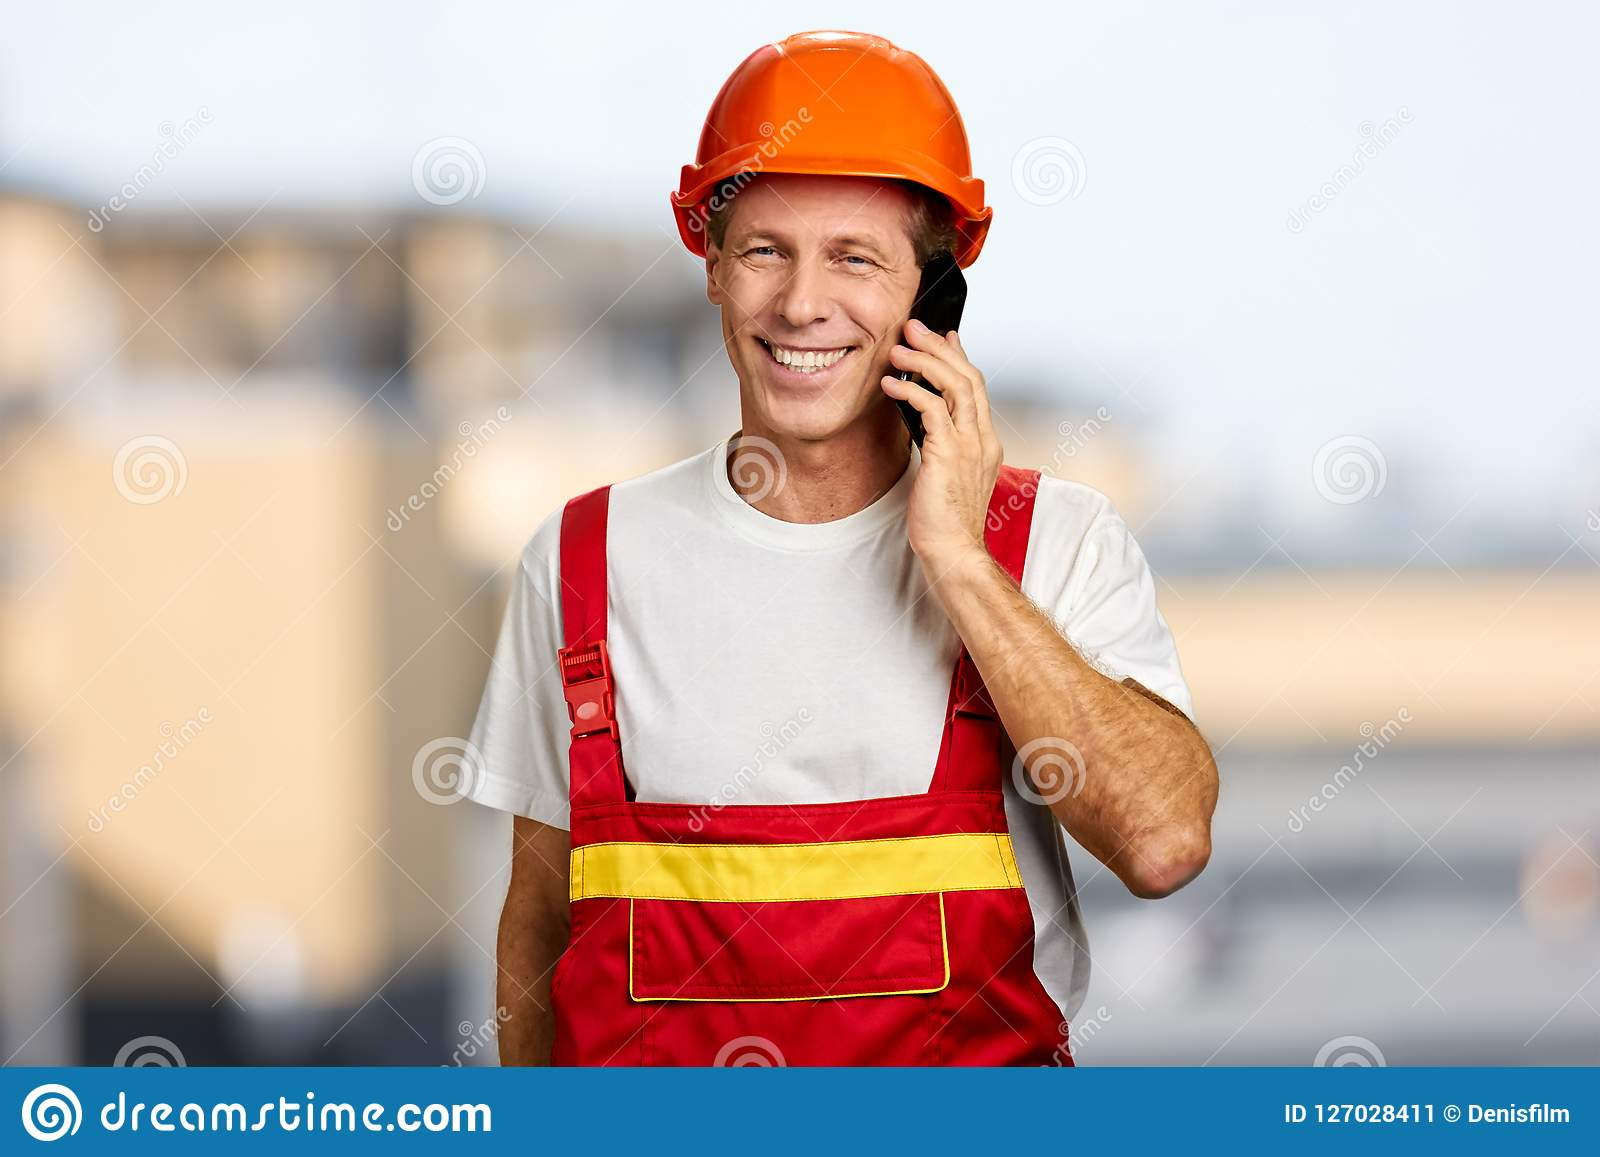phone: (891, 246, 971, 460)
talk: (733, 209, 1007, 568)
